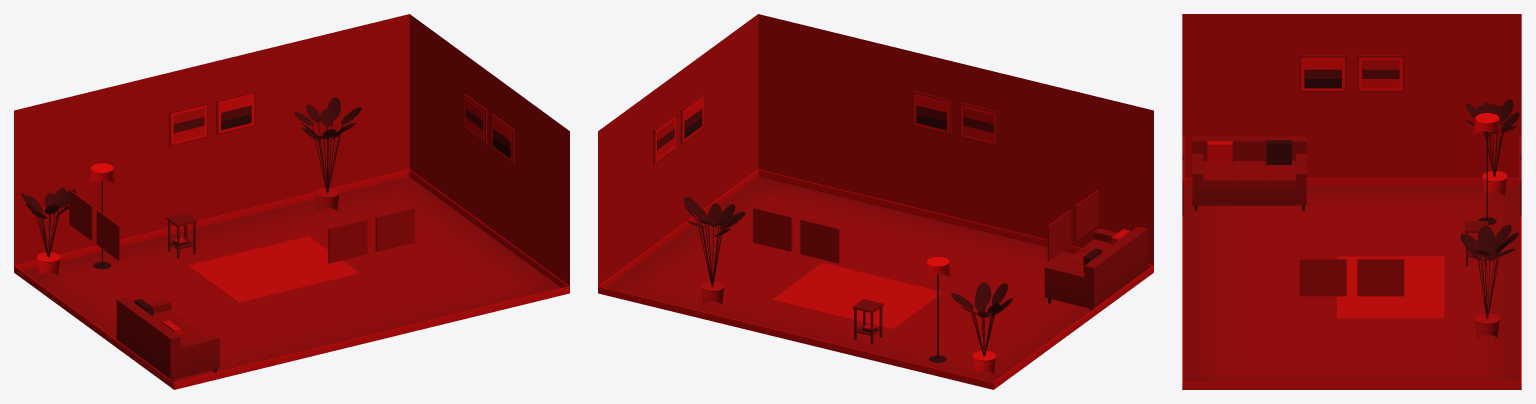
The model's file is room_living.glb.
3 renders of one model, left to right at view 1: azimuth 30°, elevation 25°; view 2: azimuth 150°, elevation 25°; view 3: azimuth 270°, elevation 25°, orthographic. The views are drawn at different scales.
Visible parts, largest first — view 1: Shell, TankRug, CenterSofa, CenterArtF, RightPlant, CenterArtRW, CenterArtLW, CenterPlantCorner, CenterArtL, CenterArtR, LeftTable, LeftLamp; view 2: Shell, TankRug, CenterSofa, CenterArtF, RightPlant, CenterPlantCorner, CenterArtRW, CenterArtLW, CenterArtL, CenterArtR, LeftTable, LeftLamp; view 3: Shell, CenterSofa, TankRug, CenterArtLW, CenterArtRW, RightPlant, CenterPlantCorner, LeftLamp, LeftTable.
Boxes of the visible parts, x1=… form: Shell: x1=14, y1=14, x2=569, y2=389; TankRug: x1=188, y1=236, x2=359, y2=302; CenterSofa: x1=116, y1=297, x2=219, y2=381; CenterArtF: x1=328, y1=207, x2=414, y2=263; RightPlant: x1=294, y1=97, x2=361, y2=210; CenterArtRW: x1=463, y1=93, x2=514, y2=164; CenterArtLW: x1=69, y1=190, x2=120, y2=260; CenterPlantCorner: x1=21, y1=188, x2=75, y2=276; CenterArtL: x1=169, y1=102, x2=208, y2=146; CenterArtR: x1=216, y1=91, x2=255, y2=135; LeftTable: x1=166, y1=213, x2=197, y2=258; LeftLamp: x1=88, y1=163, x2=115, y2=269; Shell: x1=598, y1=14, x2=1153, y2=389; TankRug: x1=772, y1=263, x2=943, y2=329; CenterSofa: x1=1044, y1=226, x2=1147, y2=310; CenterArtF: x1=912, y1=91, x2=998, y2=146; RightPlant: x1=683, y1=196, x2=745, y2=305; CenterPlantCorner: x1=951, y1=282, x2=1012, y2=375; CenterArtRW: x1=653, y1=93, x2=704, y2=164; CenterArtLW: x1=1047, y1=190, x2=1098, y2=260; CenterArtL: x1=800, y1=219, x2=839, y2=263; CenterArtR: x1=753, y1=207, x2=792, y2=251; LeftTable: x1=853, y1=299, x2=883, y2=344; LeftLamp: x1=924, y1=257, x2=951, y2=362; Shell: x1=1182, y1=14, x2=1521, y2=389; CenterSofa: x1=1192, y1=136, x2=1306, y2=210; TankRug: x1=1337, y1=256, x2=1444, y2=318; CenterArtLW: x1=1299, y1=55, x2=1404, y2=92; CenterArtRW: x1=1299, y1=259, x2=1404, y2=296; RightPlant: x1=1460, y1=225, x2=1518, y2=337; CenterPlantCorner: x1=1465, y1=99, x2=1519, y2=195; LeftLamp: x1=1472, y1=113, x2=1501, y2=225; LeftTable: x1=1465, y1=221, x2=1487, y2=265.
Size of the model in its own units: 724 by 282 by 505.
